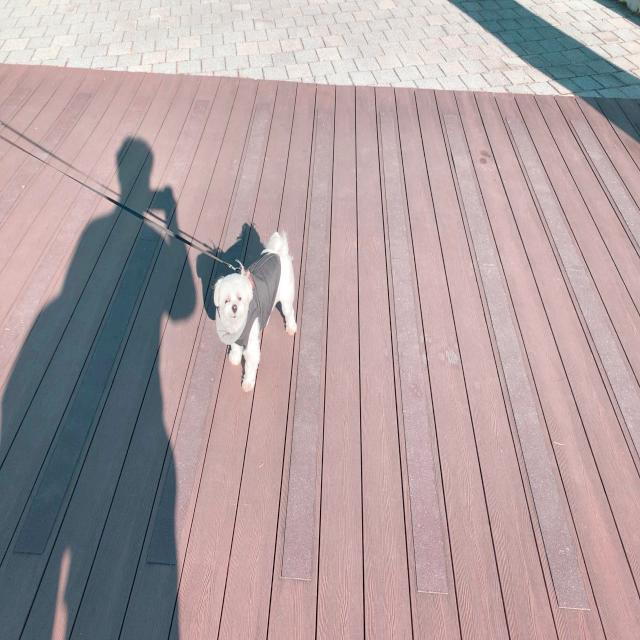Dog: (213, 226, 298, 394)
